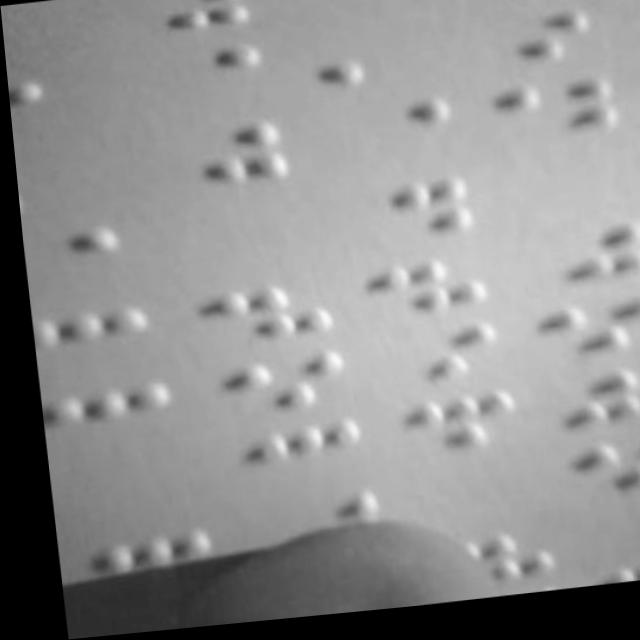braiile: (31, 380, 174, 474), (358, 257, 506, 338), (148, 115, 290, 199), (194, 277, 331, 363), (363, 327, 504, 408), (204, 350, 344, 430), (24, 303, 154, 388), (222, 421, 357, 501), (482, 86, 619, 163), (382, 397, 519, 474), (334, 178, 475, 252), (135, 41, 267, 118), (461, 19, 602, 91), (330, 104, 456, 177), (517, 232, 640, 304), (18, 224, 129, 302), (528, 300, 640, 375), (543, 373, 640, 446), (557, 442, 640, 513), (124, 0, 253, 45), (577, 559, 640, 596)
